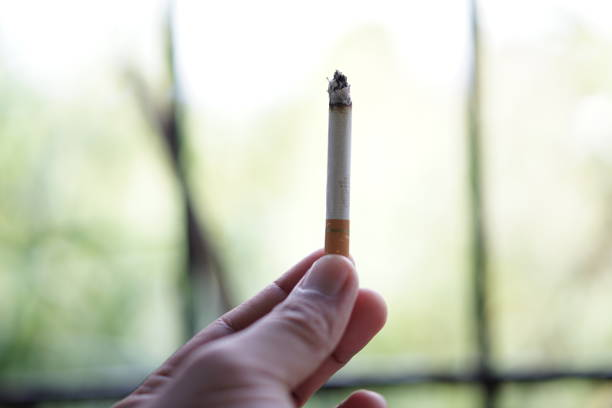cigarette: (323, 66, 353, 256)
